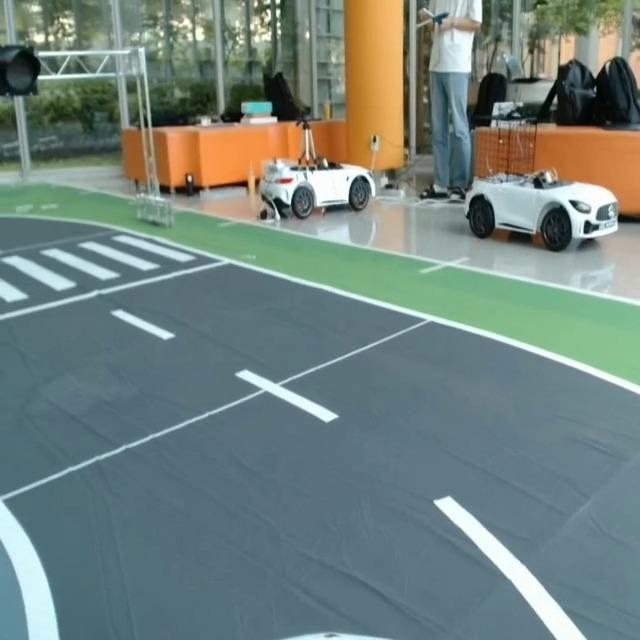traffic-light: (0, 43, 45, 99)
